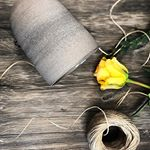cups: (6, 1, 102, 88)
